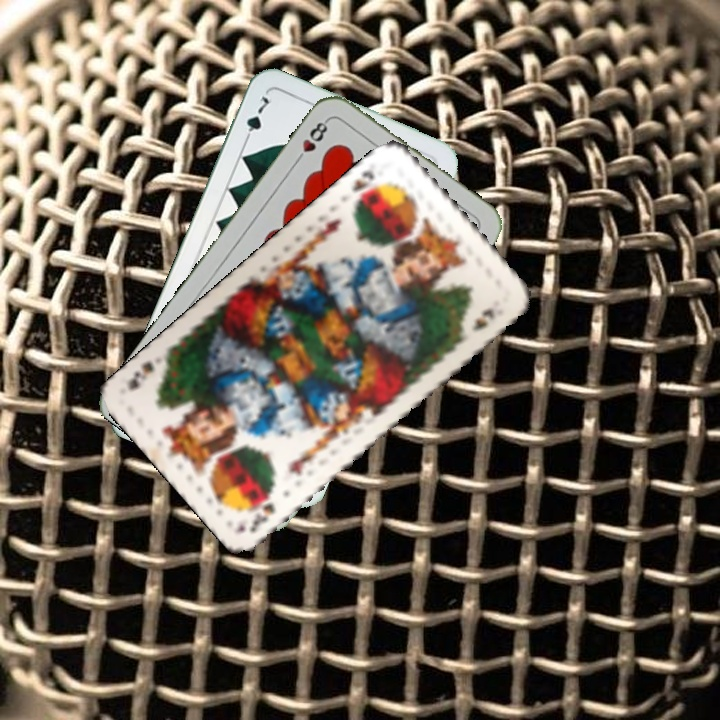G7: (239, 92, 272, 147)
H8: (291, 115, 331, 166)
SK: (347, 166, 381, 210), (244, 498, 279, 535)
